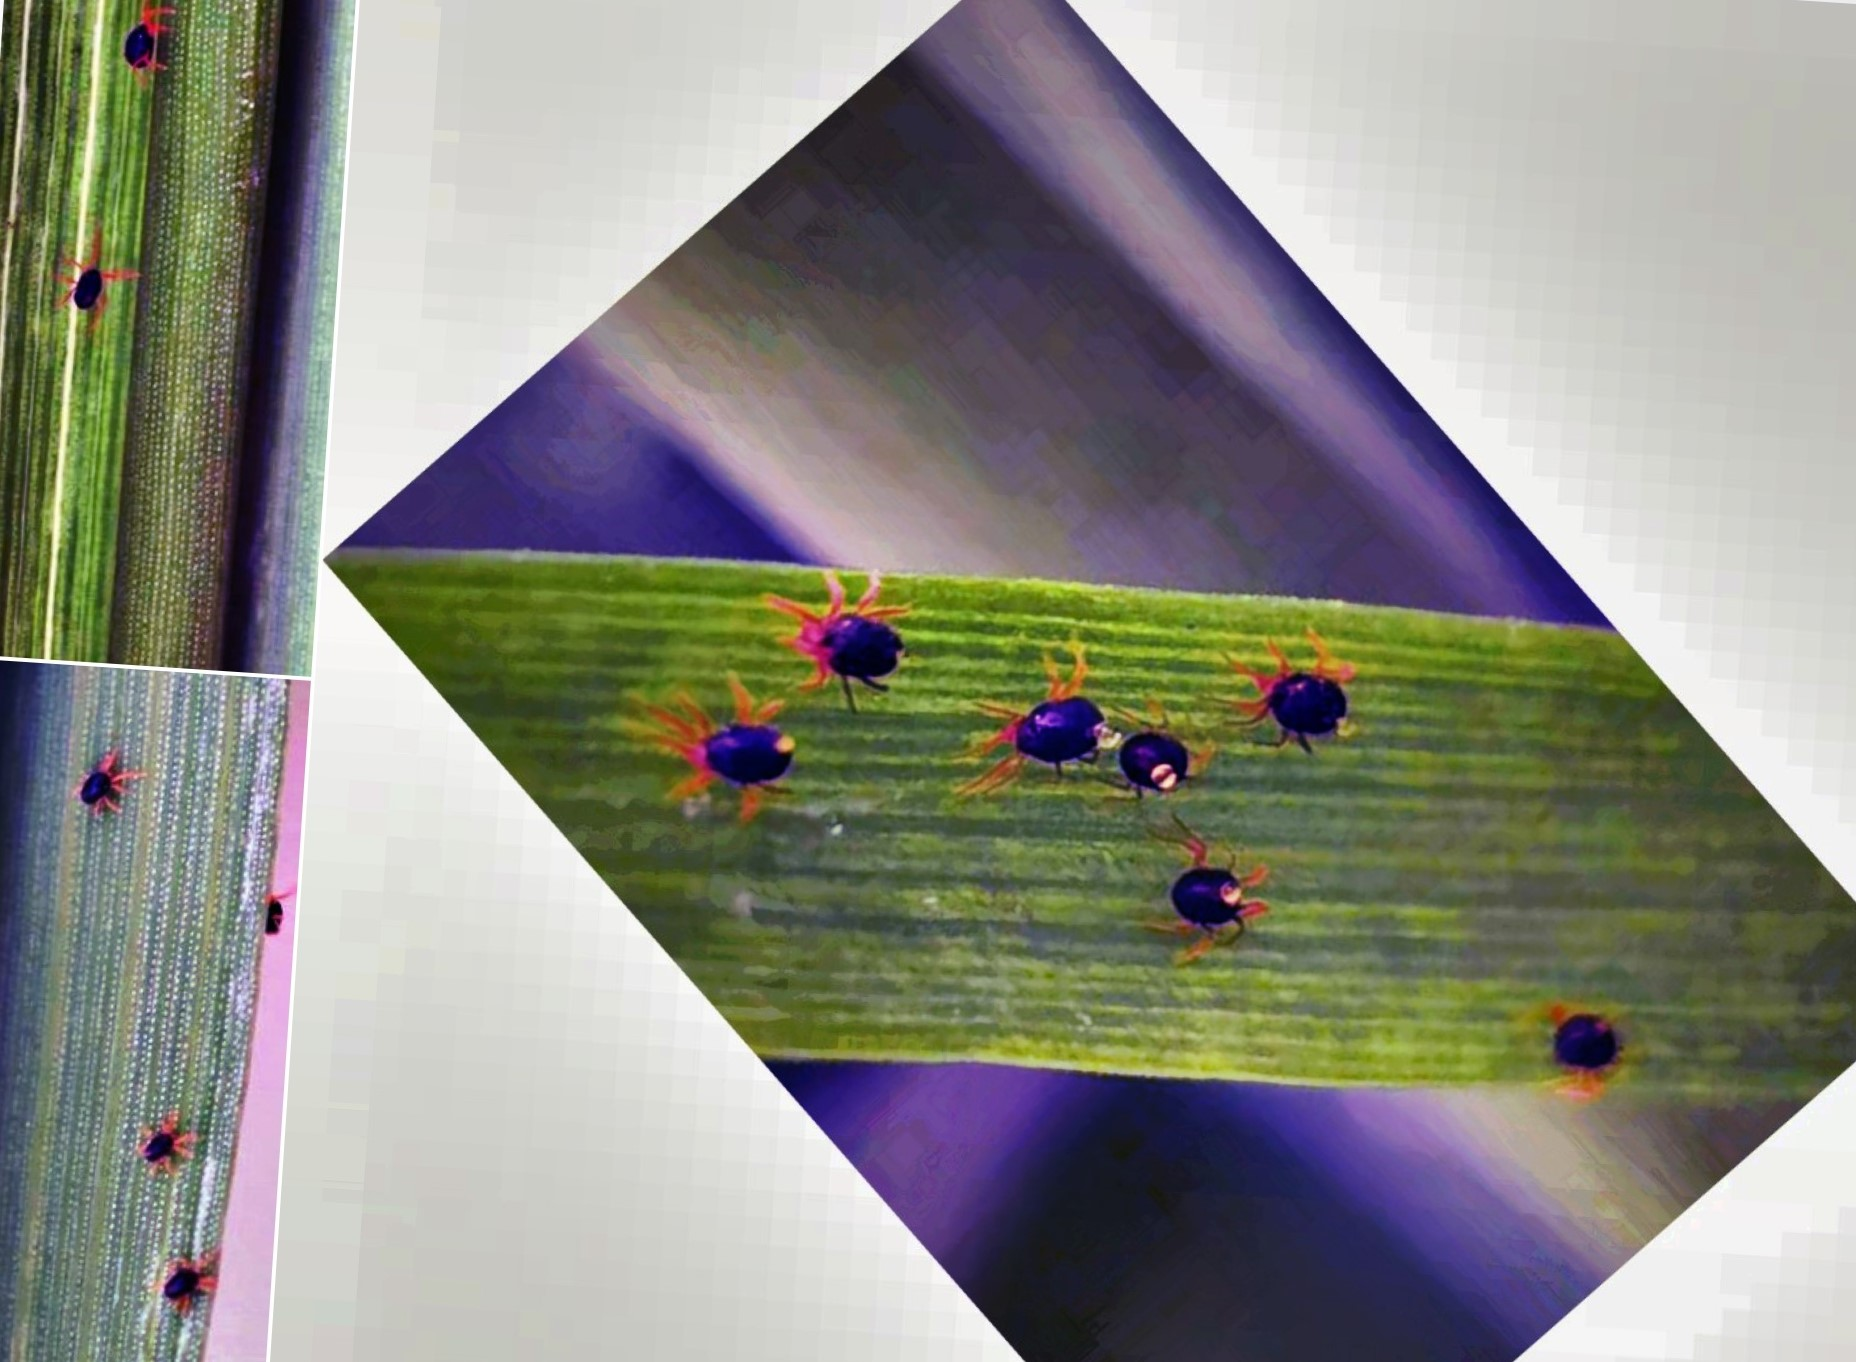Wheat Red Spider: (602, 546, 922, 842)
